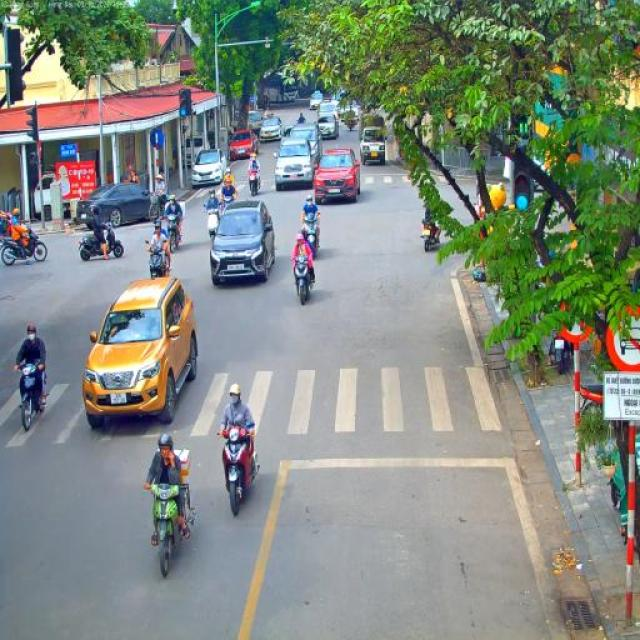car: (81, 275, 199, 430), (209, 200, 276, 286), (74, 182, 154, 228), (314, 146, 361, 204), (273, 136, 315, 192), (289, 122, 322, 168), (192, 148, 228, 187), (228, 130, 260, 160), (316, 114, 340, 141), (260, 116, 282, 144), (339, 102, 362, 127), (318, 101, 338, 120), (310, 91, 325, 111), (281, 125, 294, 140), (331, 91, 343, 104)
motorcycle: (146, 479, 195, 579), (217, 421, 261, 517), (15, 359, 47, 433), (0, 224, 49, 266), (78, 222, 124, 262), (548, 327, 572, 375), (293, 254, 313, 306), (578, 382, 604, 422), (145, 240, 170, 280), (298, 211, 318, 259), (163, 213, 183, 254), (421, 220, 443, 252), (206, 207, 220, 245), (248, 167, 262, 197), (220, 196, 236, 216), (347, 118, 354, 132)
truck: (359, 113, 386, 166), (263, 67, 299, 106), (248, 111, 262, 137)
